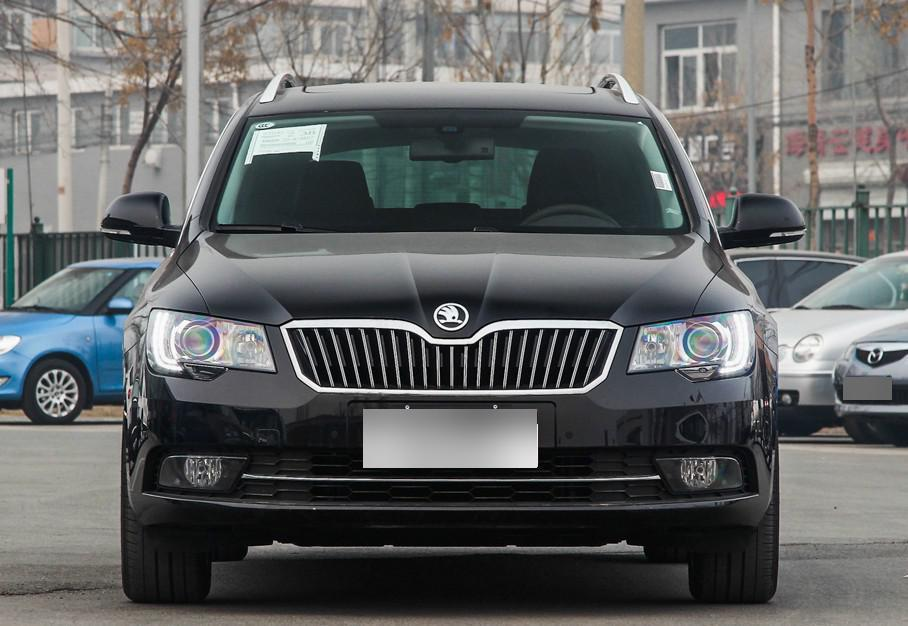Wagon: (100, 74, 807, 605)
